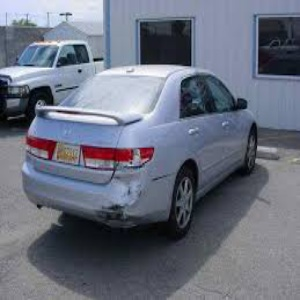bumper: (87, 182, 153, 230)
